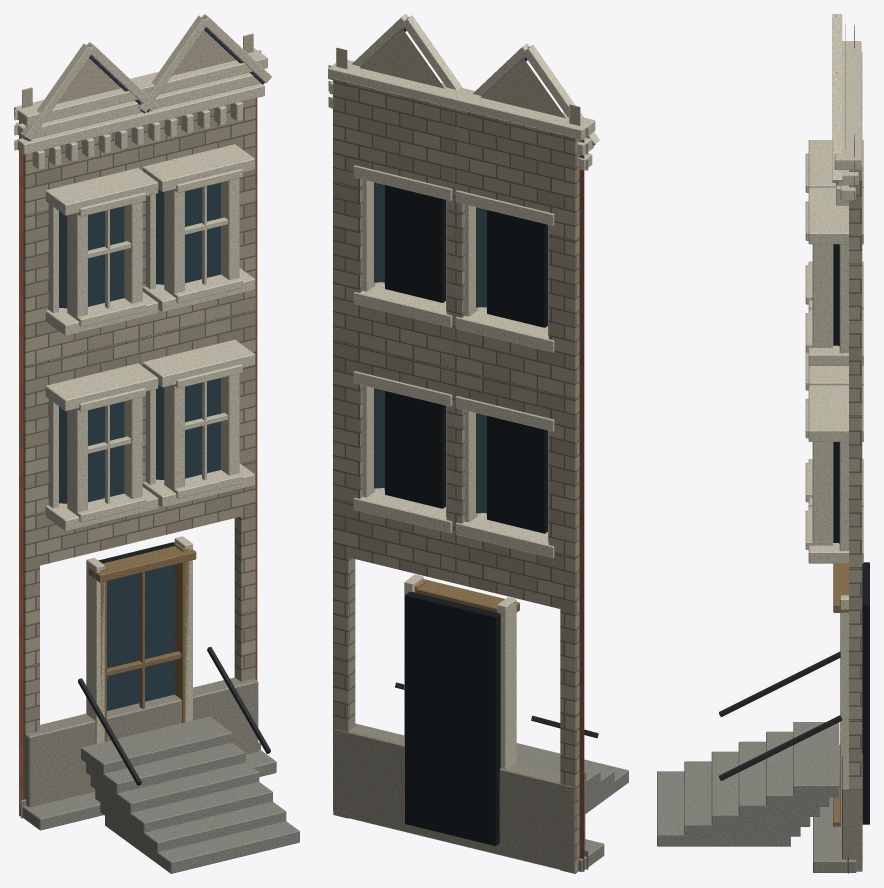
Rendered from RUNDWN12_lod1.glb.
3 views of the same model, side by side, from view 1: azimuth 30°, elevation 25°; view 2: azimuth 150°, elevation 25°; view 3: azimuth 270°, elevation 25° (orthographic). The views are drawn at different scales.
Visible parts, largest first — view 1: RUNDWN12_FRONT_LOD1; view 2: RUNDWN12_FRONT_LOD1; view 3: RUNDWN12_FRONT_LOD1.
Part boxes in pixels (x1,y1,x2,y2): RUNDWN12_FRONT_LOD1: [14, 14, 299, 873]; RUNDWN12_FRONT_LOD1: [328, 14, 628, 873]; RUNDWN12_FRONT_LOD1: [657, 14, 869, 873].
Size of the model in its own units: 3.44 by 10.15 by 2.54.
Materials: 12 (10 with a texture image).
